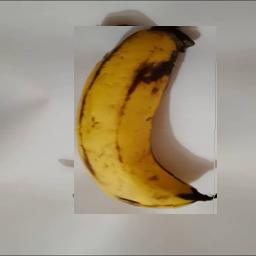Banana Semifresh: (75, 26, 218, 214)
